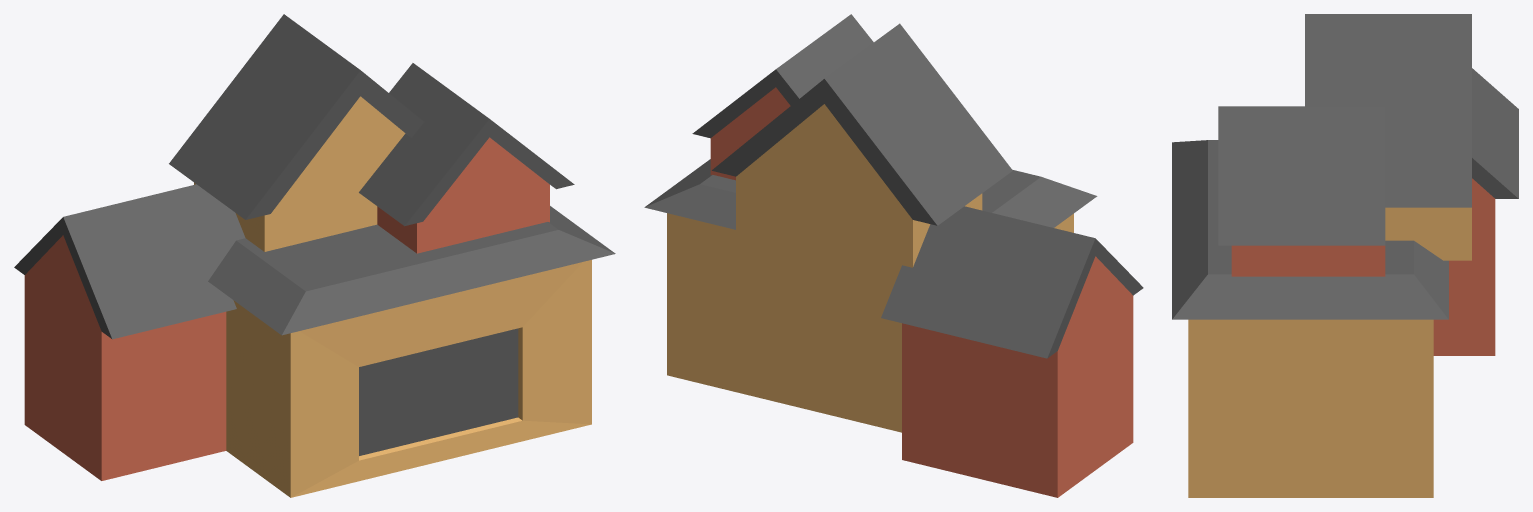
Rendered from House1.fbx.
3 renders of one model, left to right at view 1: azimuth 30°, elevation 25°; view 2: azimuth 150°, elevation 25°; view 3: azimuth 270°, elevation 25°, orthographic. The views are drawn at different scales.
Visible parts, largest first — view 1: Cube.047; view 2: Cube.047; view 3: Cube.047.
Boxes of the visible parts, box(x1,y1,x2,y2) form: Cube.047: box(14, 14, 615, 497); Cube.047: box(644, 14, 1143, 497); Cube.047: box(1172, 14, 1518, 497).
Bounding box in the file's own units: 1325 × 1025 × 827.
